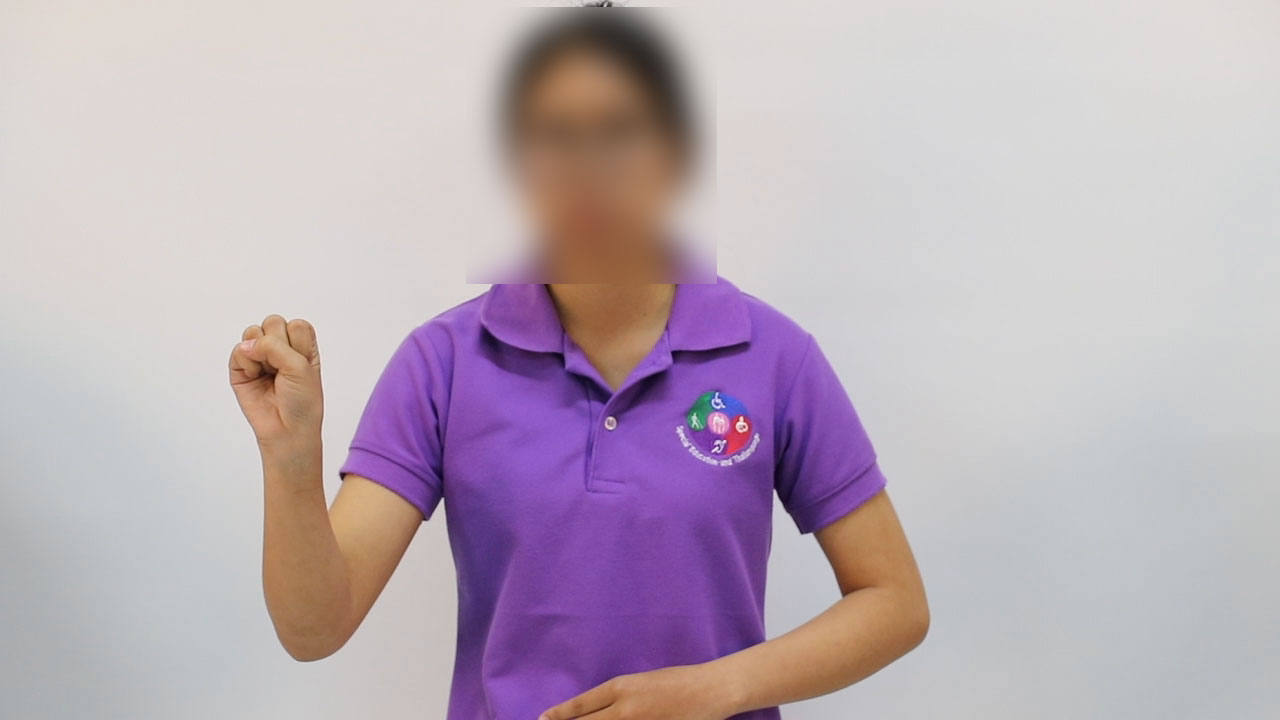sor: (212, 306, 342, 454)
